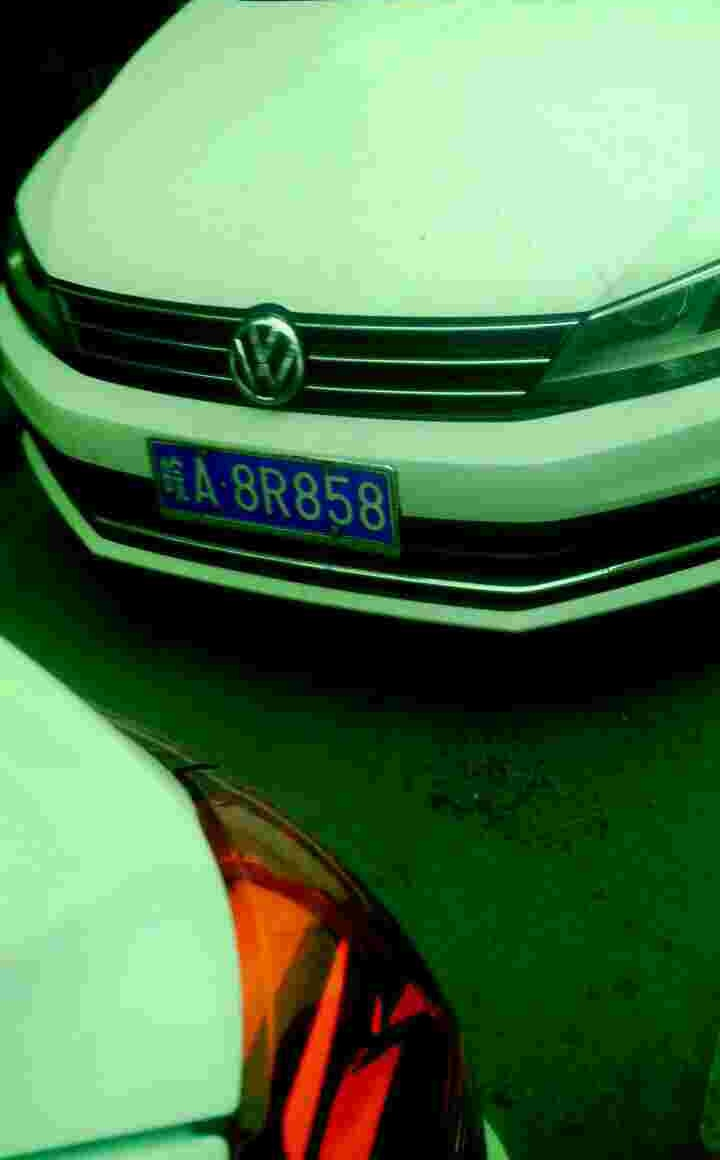license_plate: (151, 445, 401, 545)
